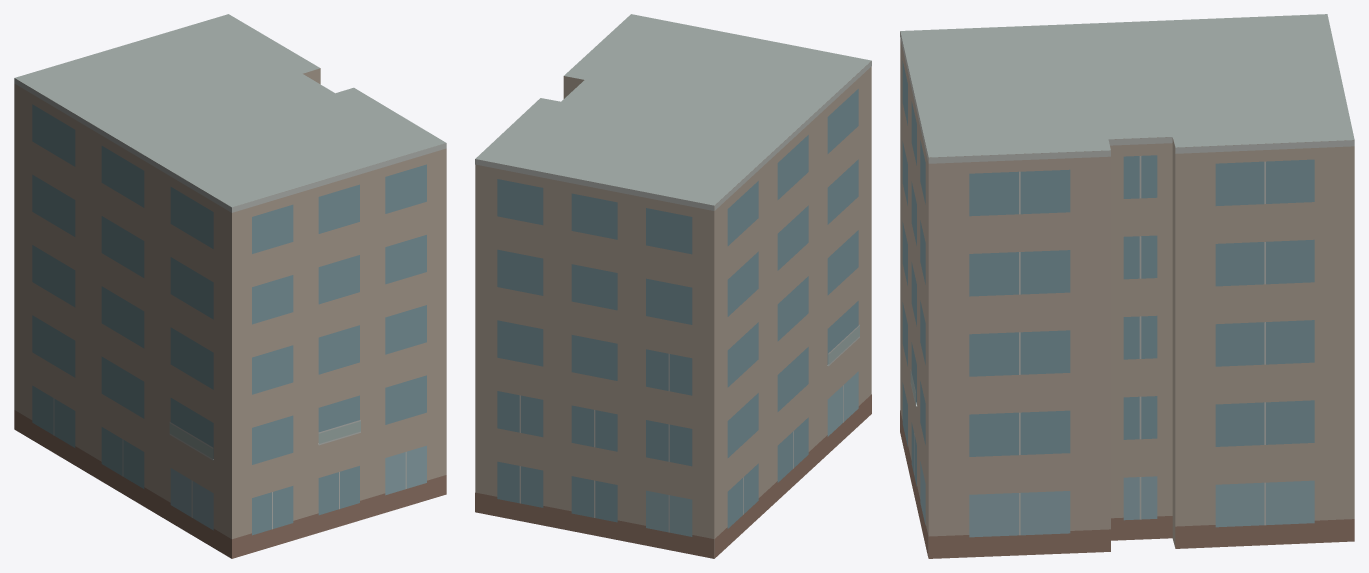
Rendered from survey-upis-32653265.glb.
The picture shows the model from 3 angles, left to right: view 1: azimuth 30°, elevation 25°; view 2: azimuth 150°, elevation 25°; view 3: azimuth 270°, elevation 25°; orthographic projection. The views are drawn at different scales.
Visible parts, largest first — view 1: survey-upis-32653265.tmp; view 2: survey-upis-32653265.tmp; view 3: survey-upis-32653265.tmp.
Boxes of the visible parts, bbox=[...] form: survey-upis-32653265.tmp: bbox=[14, 14, 446, 558]; survey-upis-32653265.tmp: bbox=[475, 14, 871, 558]; survey-upis-32653265.tmp: bbox=[900, 14, 1354, 558].
Bounding box in the file's own units: 11.93 × 15.55 × 15.97.
